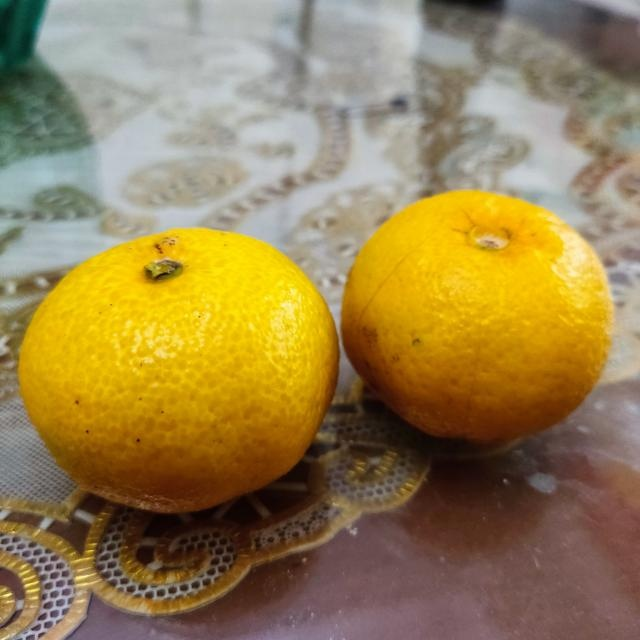agrume: (16, 228, 337, 515), (343, 187, 617, 463)
